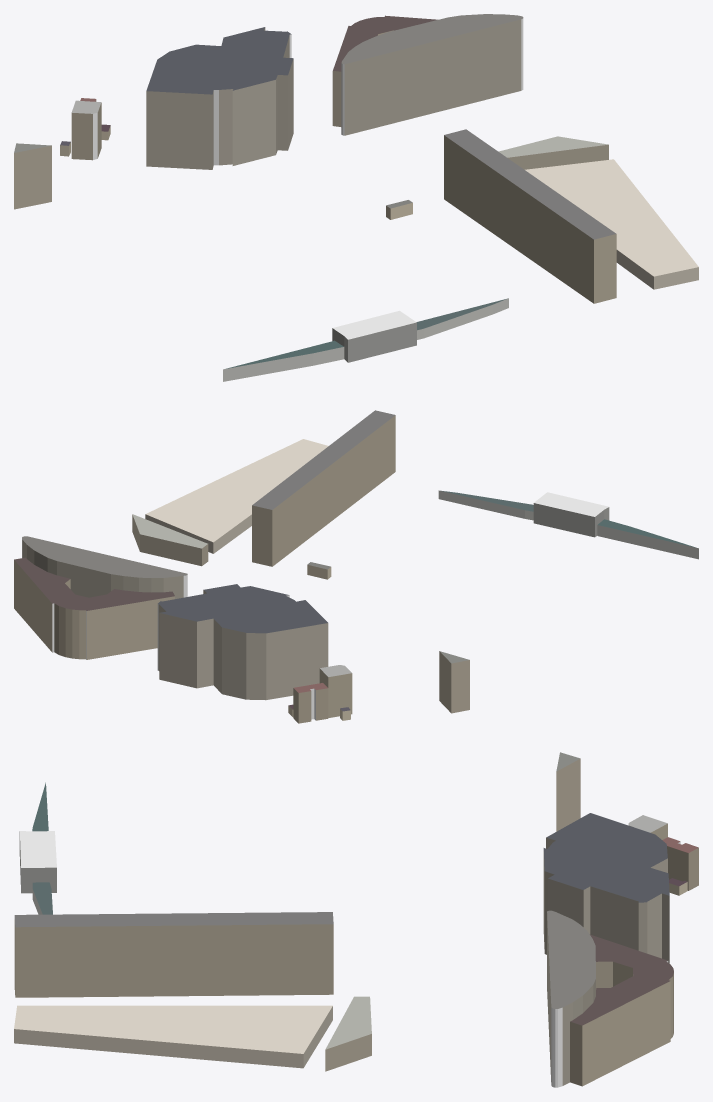
3 renders of one model, top to bottom at view 1: azimuth 30°, elevation 25°; view 2: azimuth 150°, elevation 25°; view 3: azimuth 270°, elevation 25°, orthographic. The views are drawn at different scales.
Visible parts, largest first — view 1: tuile; view 2: tuile; view 3: tuile.
Boxes of the visible parts, x1=… form: tuile: x1=14, y1=14, x2=698, y2=381; tuile: x1=14, y1=410, x2=698, y2=723; tuile: x1=14, y1=752, x2=698, y2=1087.
Size of the model in its own units: 256 by 34.63 by 259.
